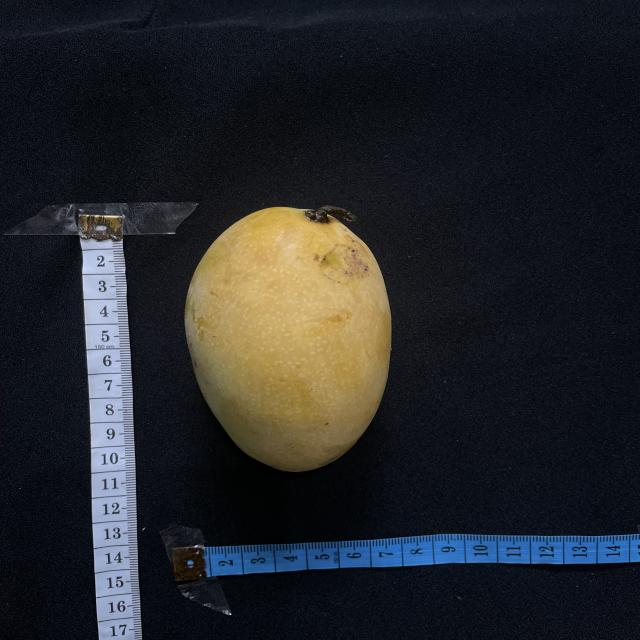Ripe: (185, 207, 391, 472)
